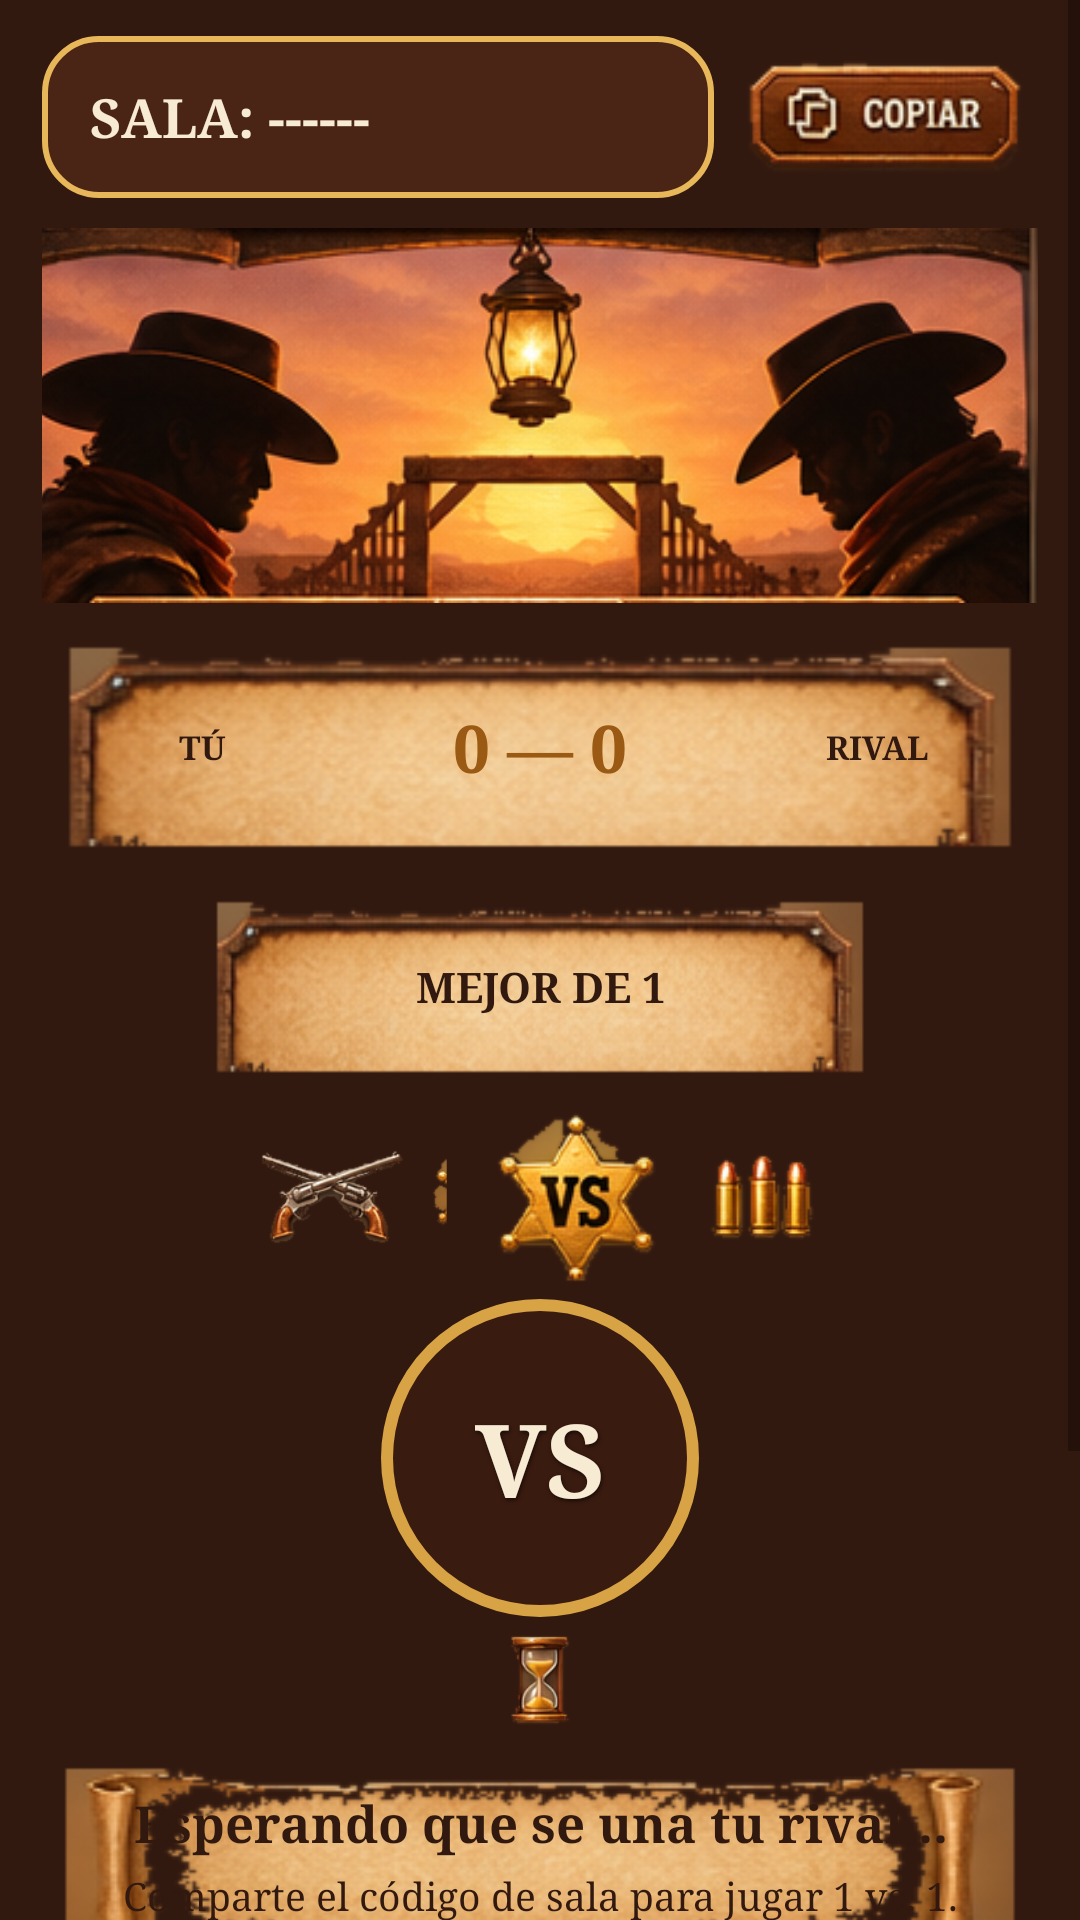

Icons on this 1080 x 1920 Android screen, each with its box as bbox=(x1, y1, x2, y2):
Balas de revólver: bbox=(712, 1156, 812, 1238)
Cuenta regresiva aleatoria: bbox=(511, 1637, 568, 1723)
Insignia de enfrentamiento: bbox=(498, 1115, 654, 1281)
Revólveres cruzados: bbox=(262, 1151, 447, 1242)
